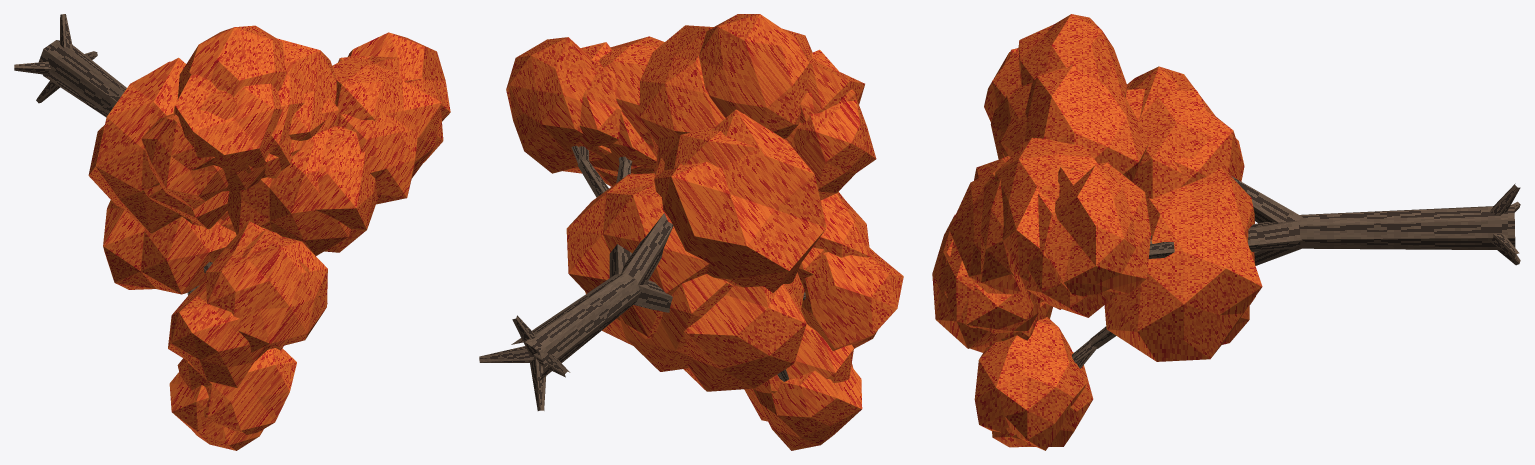
The model's file is maple_tree_autumn.glb.
The picture shows the model from 3 angles, left to right: view 1: azimuth 30°, elevation 25°; view 2: azimuth 150°, elevation 25°; view 3: azimuth 270°, elevation 25°; orthographic projection. The views are drawn at different scales.
Parts seen in each view (by area): view 1: leaves, bark; view 2: leaves, bark; view 3: leaves, bark.
Part boxes in pixels (x1=…): leaves: x1=88, y1=25, x2=450, y2=450; bark: x1=14, y1=14, x2=212, y2=295; leaves: x1=506, y1=14, x2=903, y2=450; bark: x1=479, y1=145, x2=805, y2=410; leaves: x1=932, y1=14, x2=1262, y2=450; bark: x1=1072, y1=176, x2=1520, y2=368.
Bounding box in the file's own units: 6.97 × 8.23 × 9.81.
Materials: 2 (2 with a texture image).
